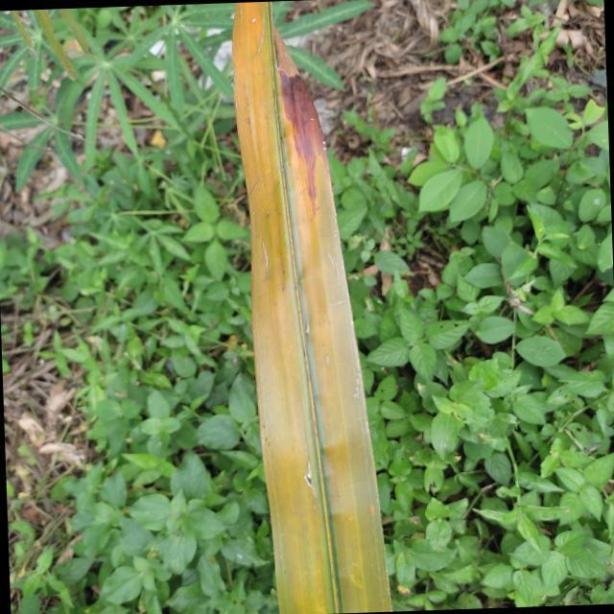Megnesium: (226, 0, 396, 614)
